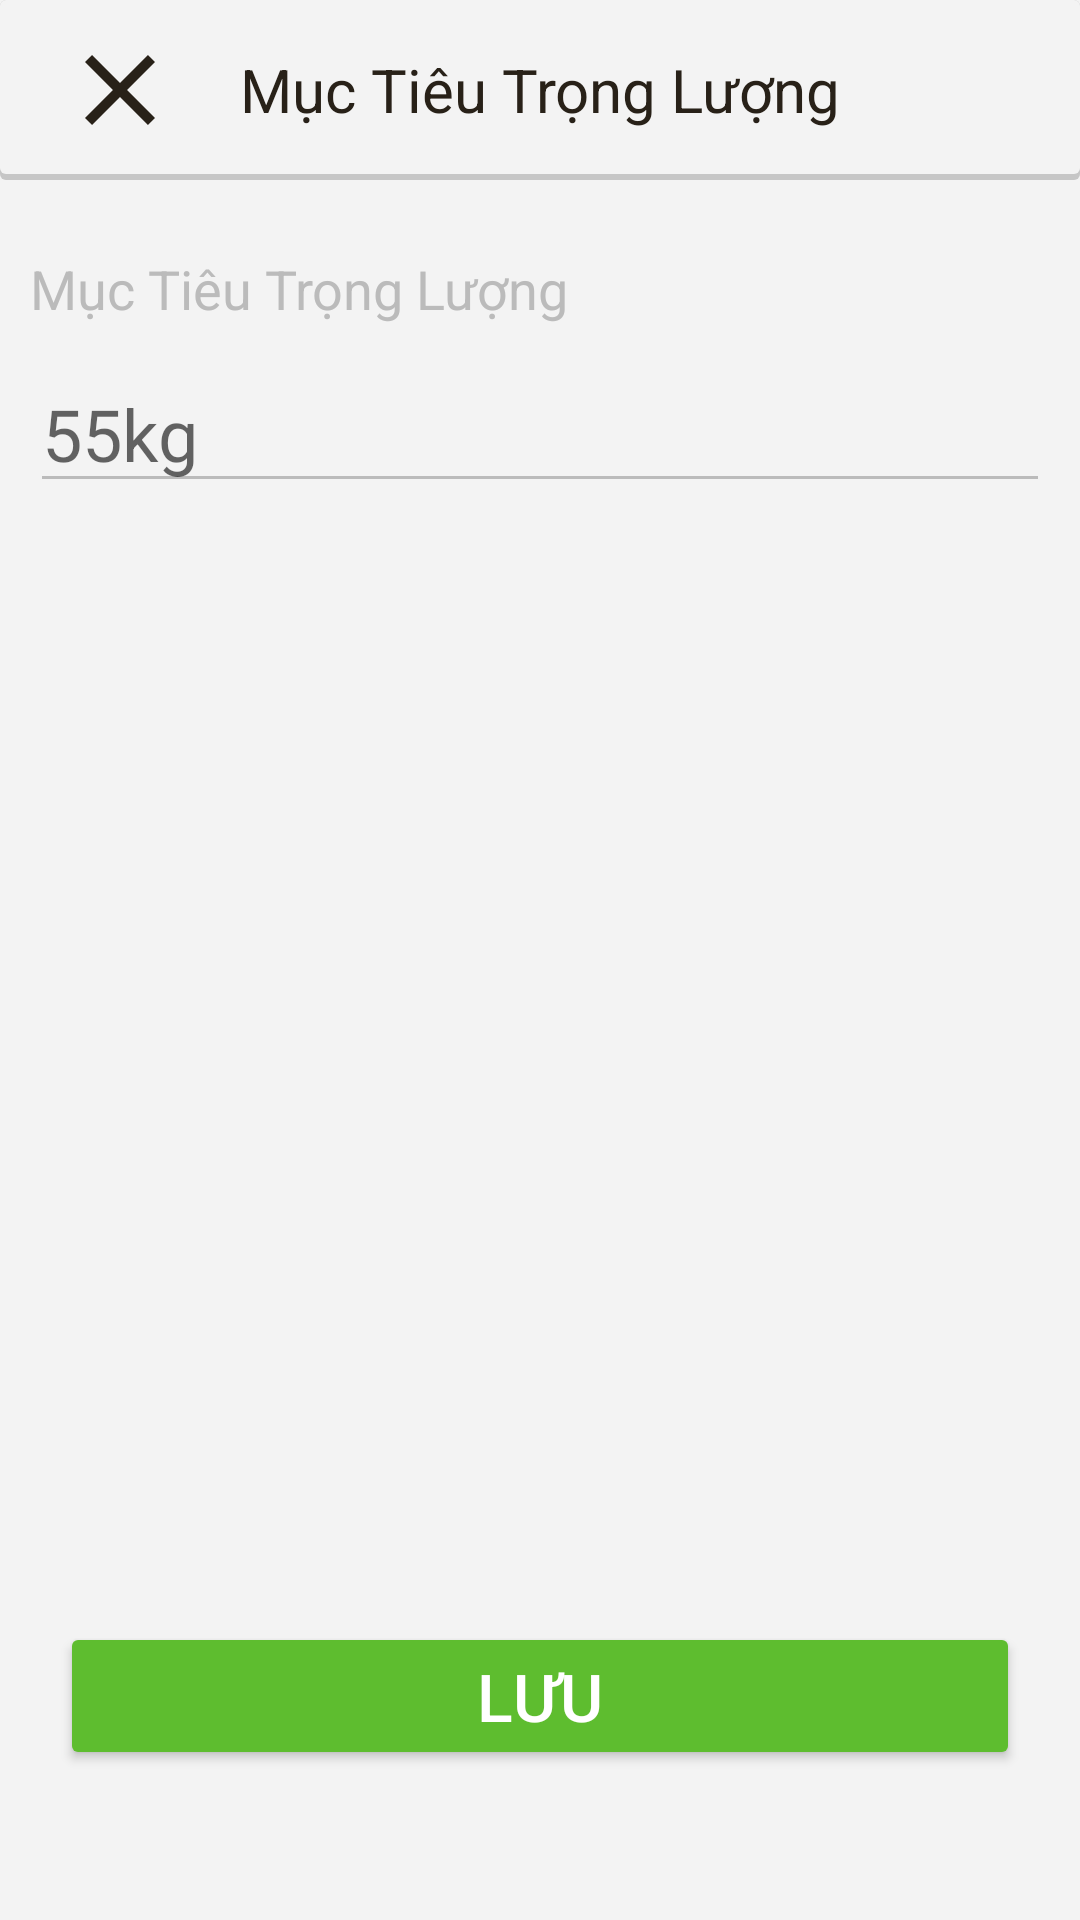

Screen size 1080w x 1920h. Icon name, then its center in pixels as point (x, y):
close: point (120, 90)
